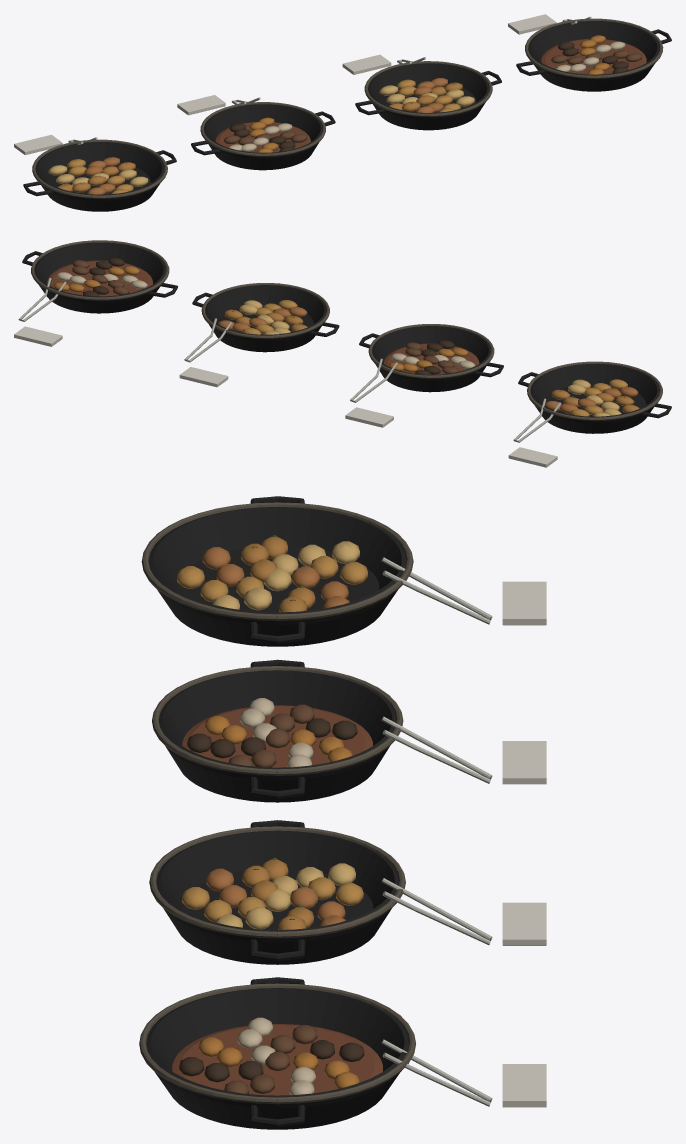
File: dishes.glb
3 views of the same model, one above another, from view 1: azimuth 30°, elevation 25°; view 2: azimuth 150°, elevation 25°; view 3: azimuth 270°, elevation 25° (orthographic). The views are drawn at different scales.
Parts seen in each view (by area): view 1: dishes; view 2: dishes; view 3: dishes.
Part boxes in pixels (<box>): dishes: <box>14,14,671,211</box>; dishes: <box>14,240,671,467</box>; dishes: <box>139,496,546,1129</box>.
Bounding box in the file's own units: 2.91 × 0.1294 × 0.8004.
